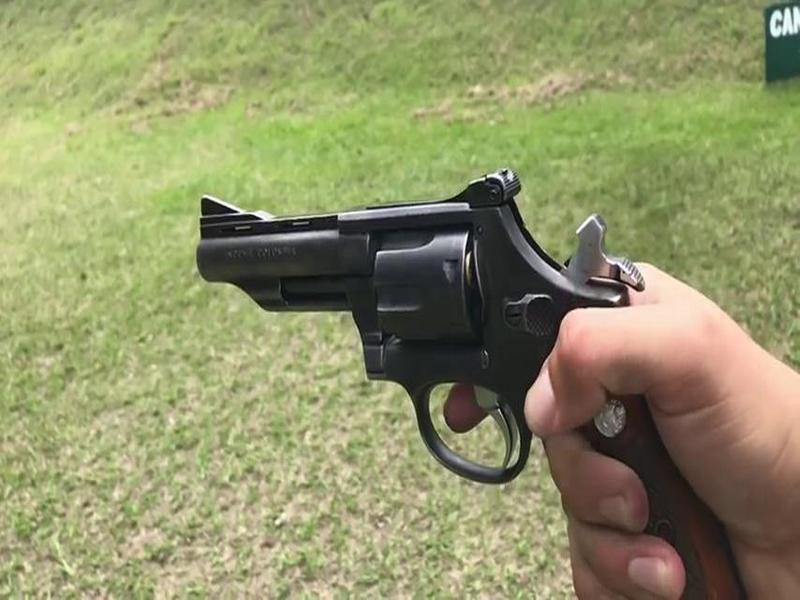Revolver: (172, 143, 697, 502)
